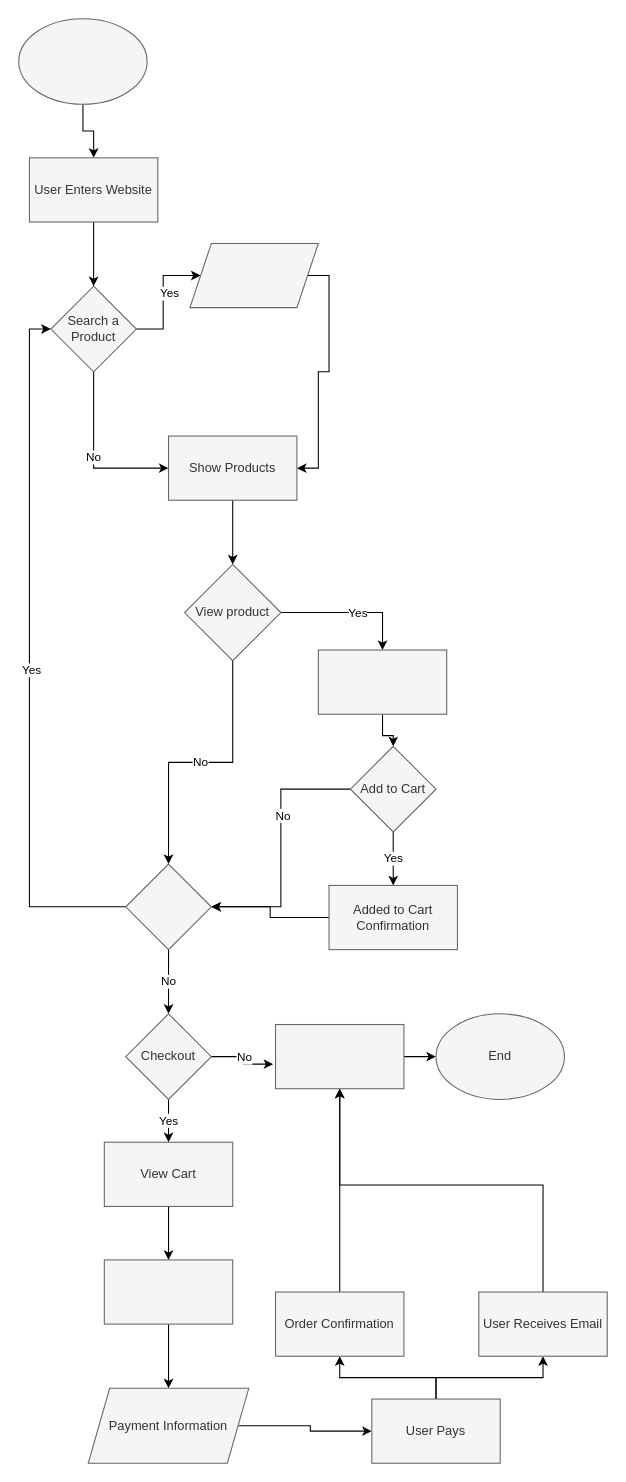
This 626x1482 diagram has some shape labels left out. Here are the shapes that lost their labels. From the top down, the centre of each, then its label:
At [82,61]: "Start".
At [253,275]: "Input for Product".
At [382,681]: "Product Website Opens".
At [168,906]: "Continue Shopping".
At [339,1056]: "User Leaves Website".
At [168,1291]: "View Payment".
